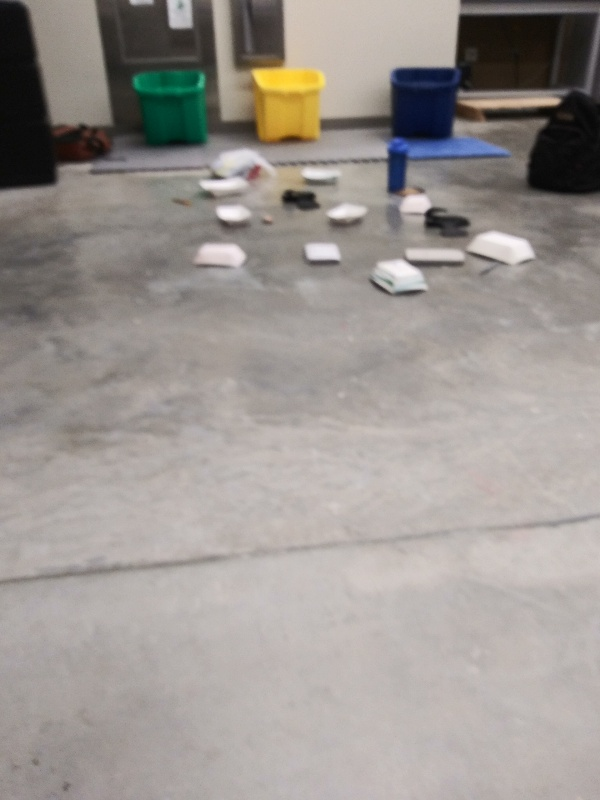plate: (462, 228, 538, 270), (367, 256, 433, 299), (186, 239, 248, 273), (195, 173, 253, 199), (324, 197, 371, 227), (212, 201, 256, 233), (296, 164, 348, 186), (395, 193, 435, 216)
